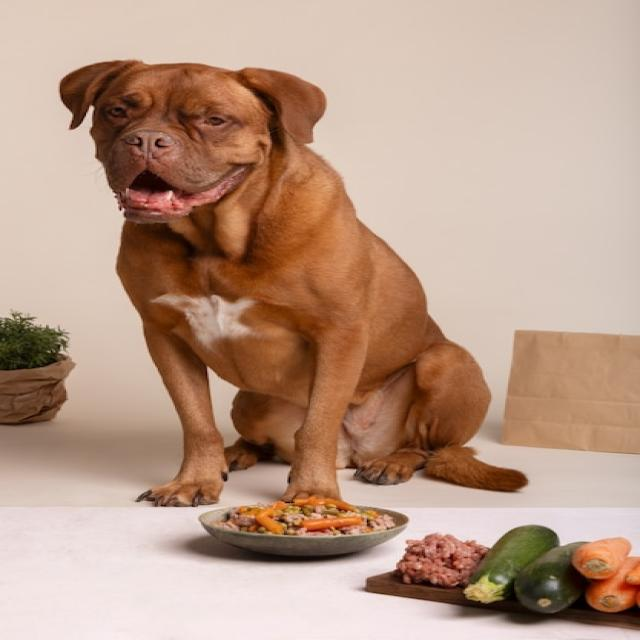Dog: (59, 60, 530, 509)
